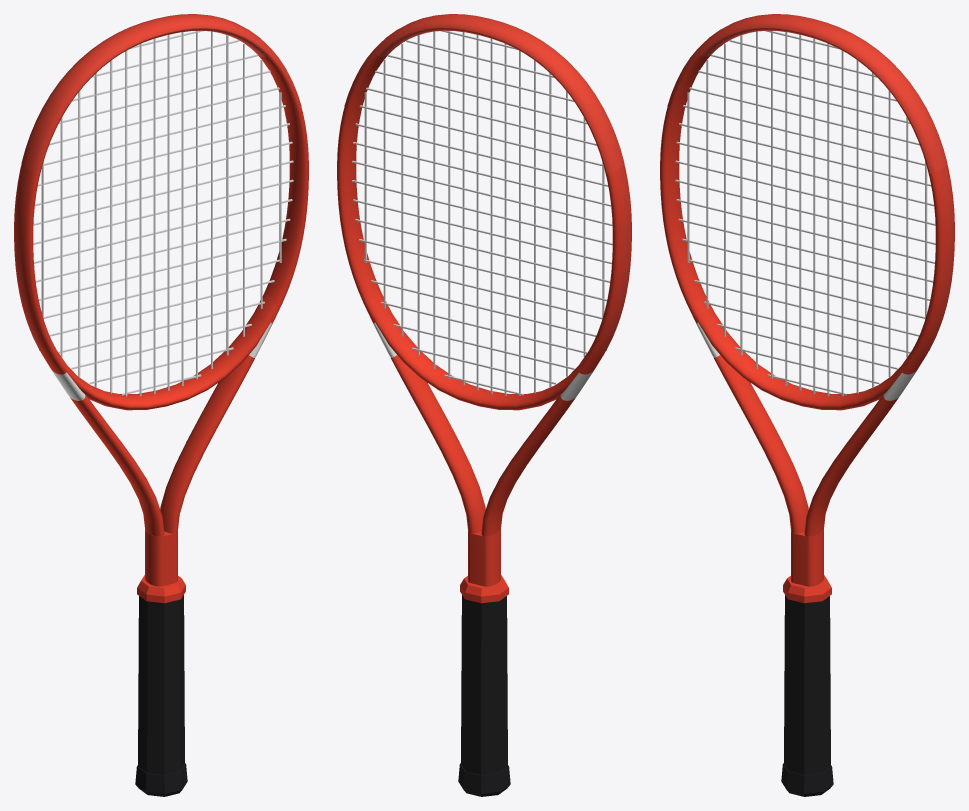
The model's file is wilson-defyer-100l.glb.
3 views of the same model, side by side, from view 1: azimuth 30°, elevation 25°; view 2: azimuth 150°, elevation 25°; view 3: azimuth 330°, elevation 25° (orthographic).
Parts seen in each view (by area): view 1: frame, strings_mains, strings_crosses, grip, bumper, grommets, butt_cap, collar; view 2: frame, strings_mains, strings_crosses, grip, bumper, grommets, butt_cap, collar; view 3: frame, strings_mains, strings_crosses, grip, bumper, grommets, butt_cap, collar.
Part boxes in pixels (x1,y1,x2,y2): frame: [14, 28, 308, 586]; strings_mains: [41, 31, 281, 396]; strings_crosses: [33, 30, 293, 395]; grip: [138, 595, 184, 774]; bumper: [21, 14, 301, 173]; grommets: [14, 165, 45, 355]; butt_cap: [135, 763, 187, 796]; collar: [137, 575, 185, 603]; frame: [337, 28, 631, 586]; strings_mains: [364, 31, 604, 395]; strings_crosses: [352, 30, 612, 395]; grip: [461, 595, 507, 774]; bumper: [344, 14, 624, 173]; grommets: [600, 165, 631, 355]; butt_cap: [458, 763, 510, 796]; collar: [460, 575, 508, 603]; frame: [660, 28, 954, 586]; strings_mains: [687, 31, 927, 396]; strings_crosses: [675, 30, 935, 395]; grip: [784, 595, 830, 774]; bumper: [667, 14, 947, 173]; grommets: [923, 165, 954, 355]; butt_cap: [781, 763, 833, 796]; collar: [783, 575, 831, 603].
Bounding box in the file's own units: 0.2696 × 0.6861 × 0.0396.
